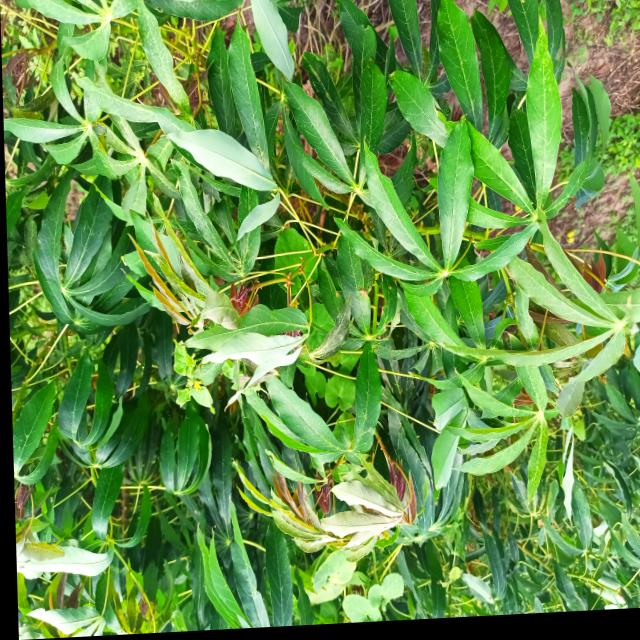Mosaico: (380, 461, 418, 523)
Mosca: (508, 87, 535, 116), (358, 52, 381, 71)
